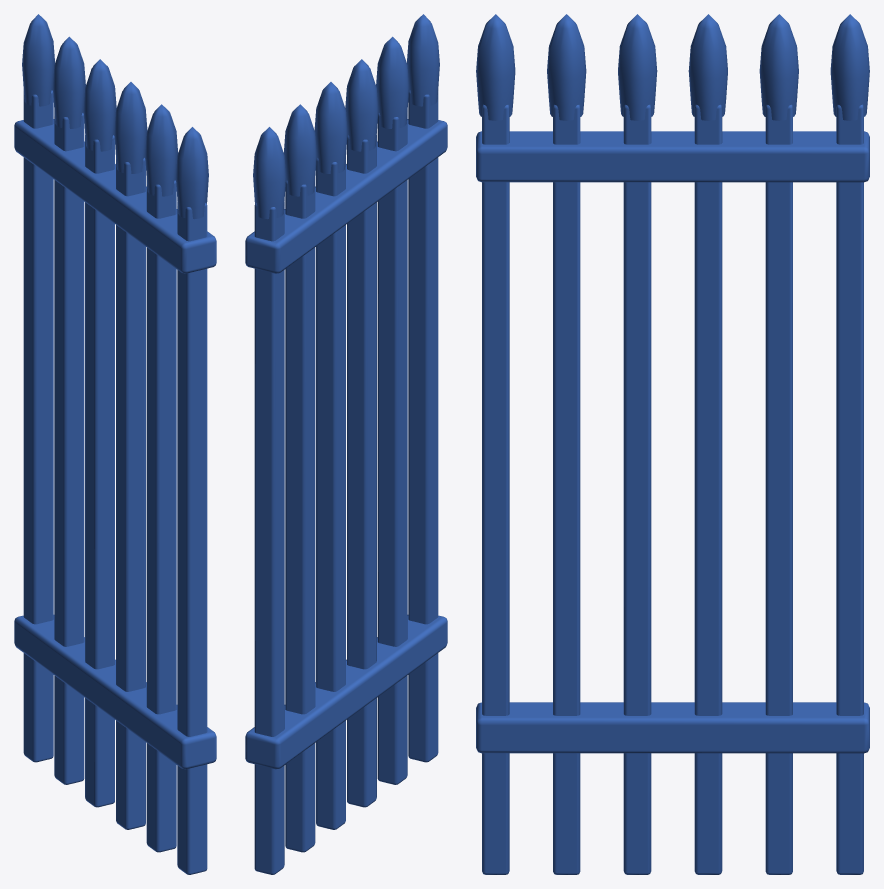
File: K_LiftGateGrille.fbx
3 views of the same model, side by side, from view 1: azimuth 30°, elevation 25°; view 2: azimuth 150°, elevation 25°; view 3: azimuth 270°, elevation 25° (orthographic). The views are drawn at different scales.
Visible parts, largest first — view 1: K_LiftGateGrille; view 2: K_LiftGateGrille; view 3: K_LiftGateGrille.
Part boxes in pixels (box(x1,y1,x2,y2)): K_LiftGateGrille: box(14, 14, 216, 874); K_LiftGateGrille: box(245, 14, 447, 874); K_LiftGateGrille: box(476, 14, 869, 874).
Size of the model in its own units: 0.12 by 2.4 by 1.
